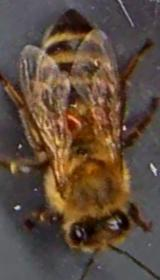varroa_mite: (61, 108, 86, 139)
